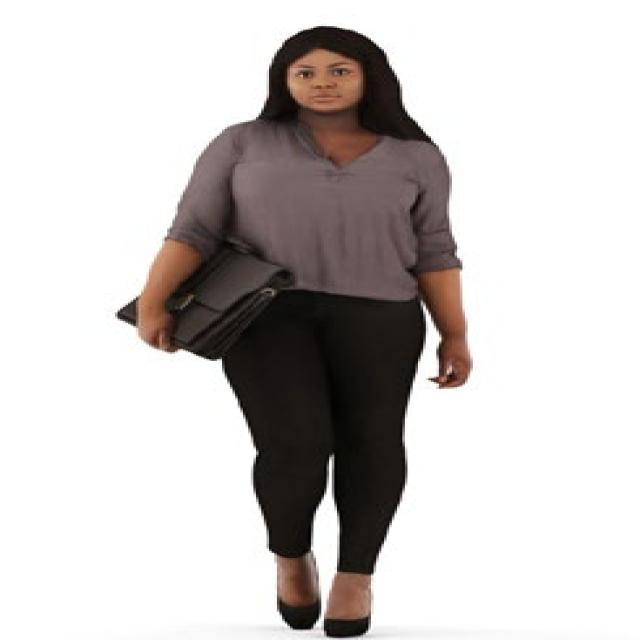standing: (114, 23, 474, 640)
